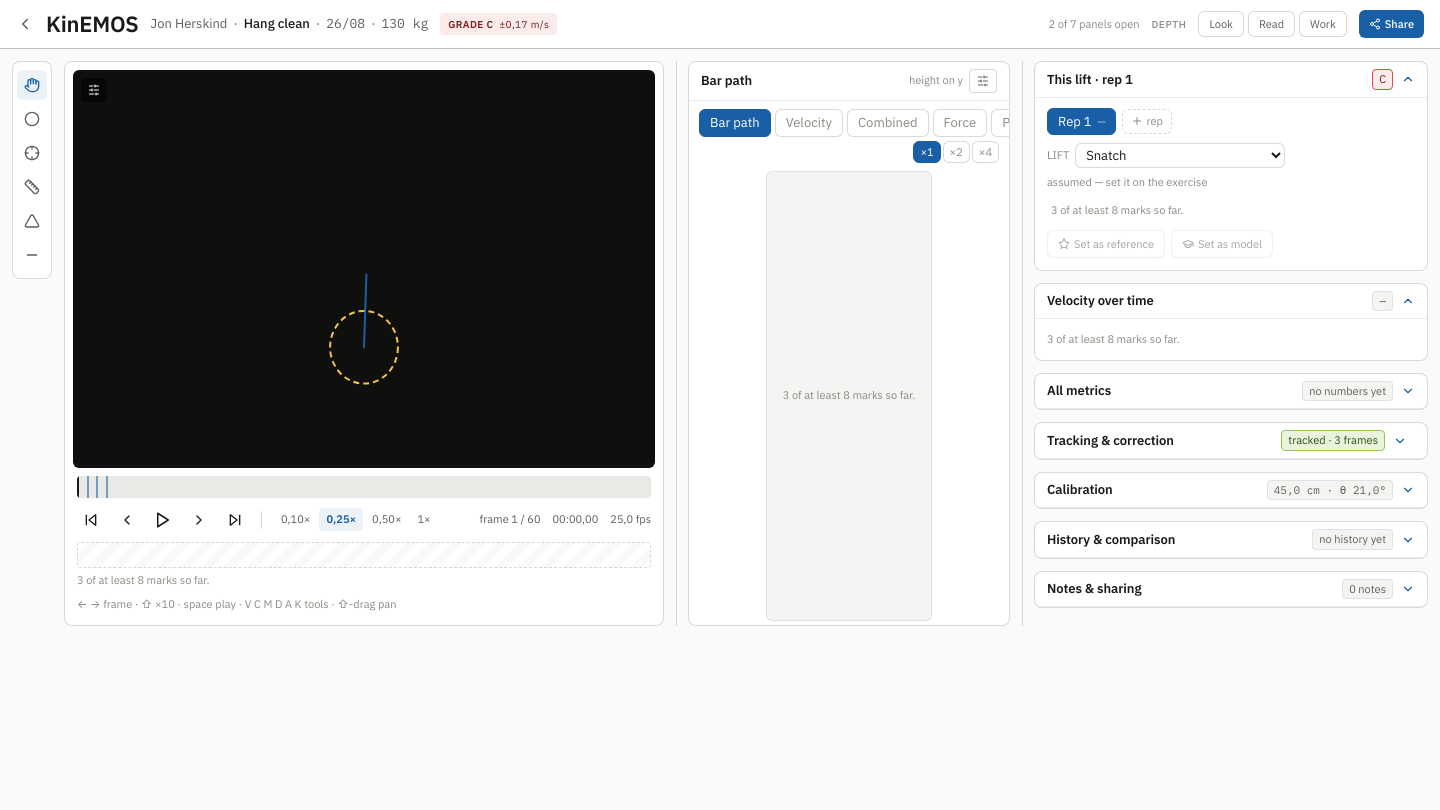
KinemosViewer · "+ rep" offers to track the rest of the clip › remembers where rep 1 ended, and tracks from there to the end as rep 2
Check: the text "Hang clean" is shown, box [244,14,310,34]
Check: the button "Rep 1 —" is shown, box [1047,108,1116,135]
Click the button titled "Add a rep": click(1147, 121) [1122,109,1172,134]
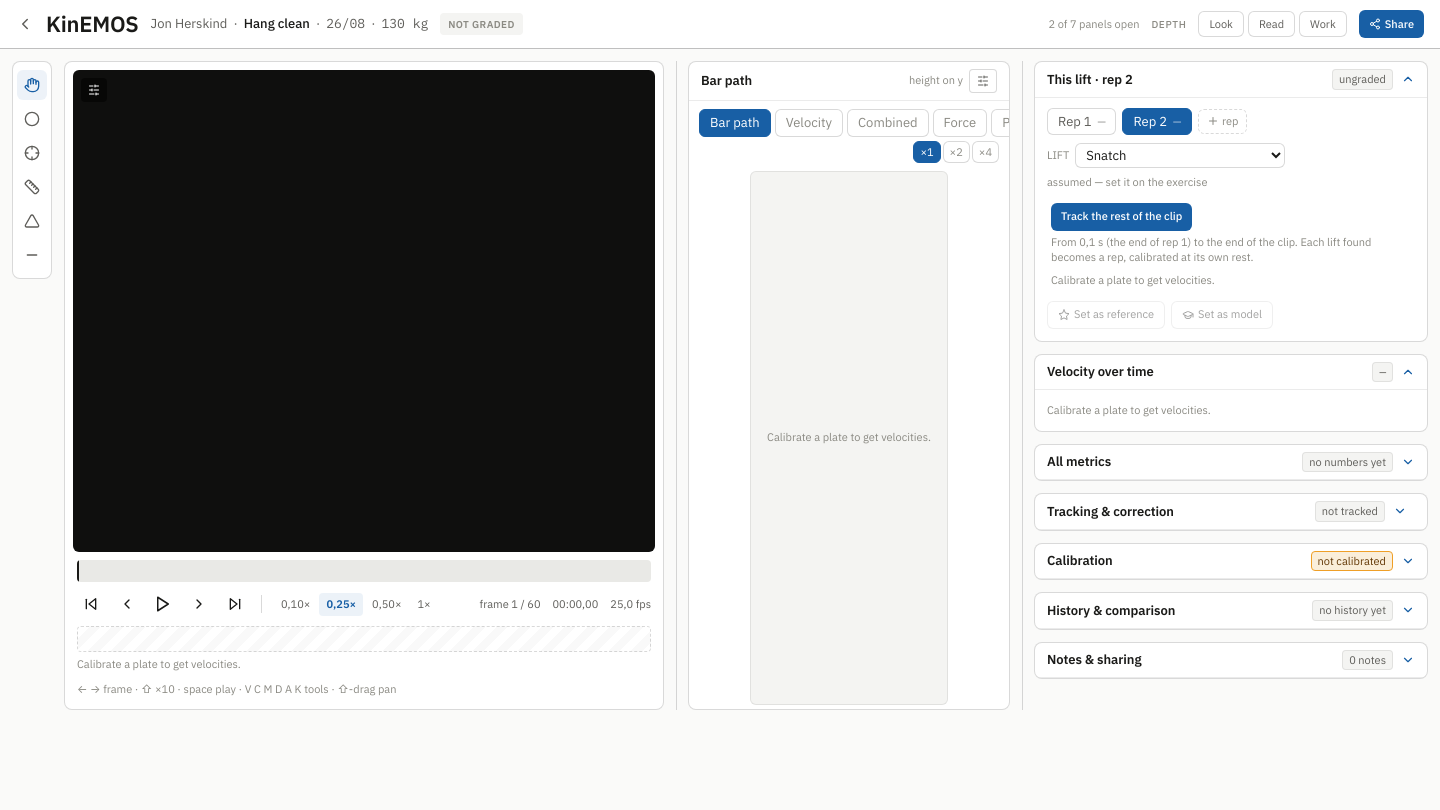
Check: the text "From 0,1 s (the end of rep 1) to the end of the clip" is shown, box [1051,234,1371,264]
Check: the button "This lift · rep 2 ungraded" is shown, box [1035,62,1427,96]
Click the button "Track the rest of the clip": click(1122, 216) [1051,202,1192,230]
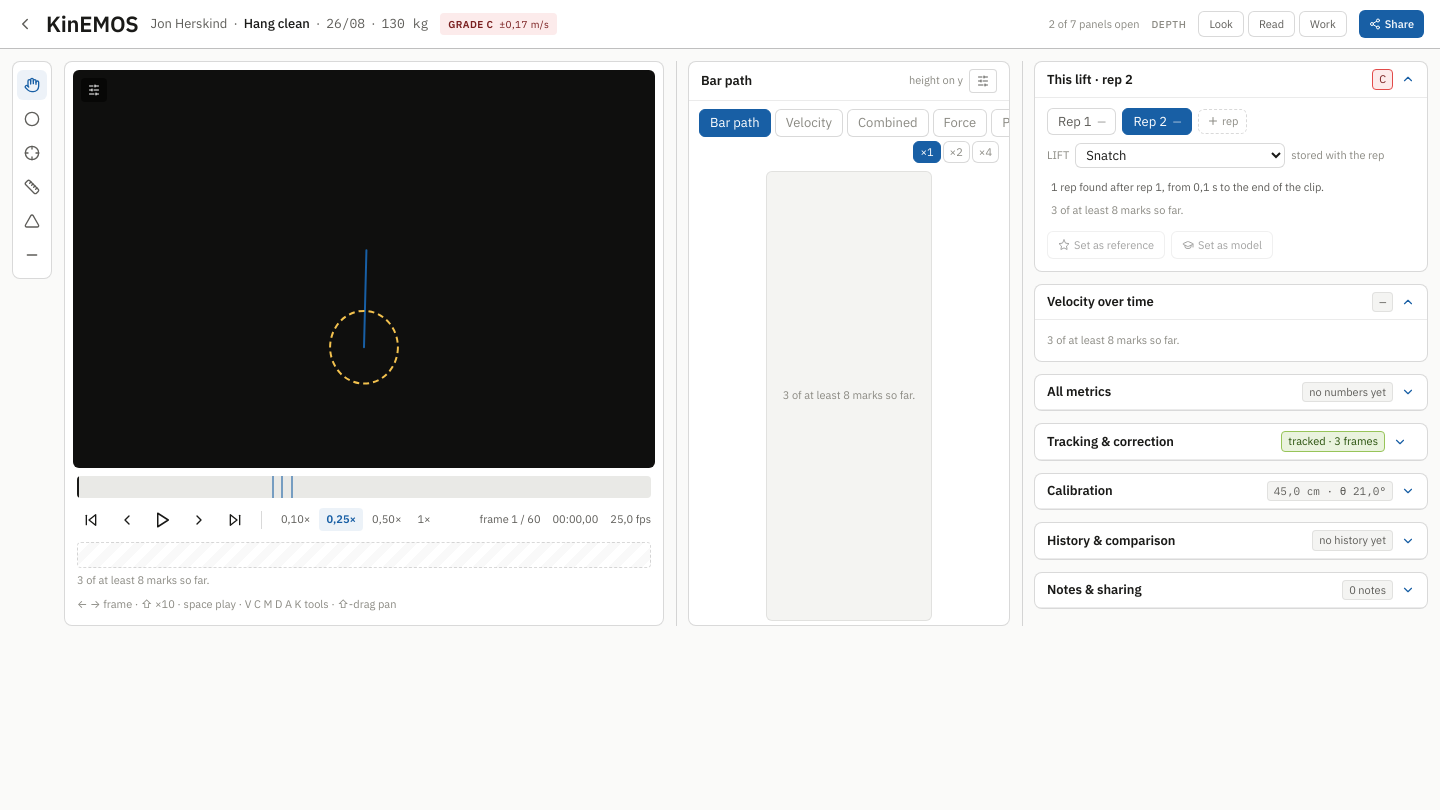
Check: the text "1 rep found after rep 1, from 0,1 s to the end of the clip." is shown, box [1051,180,1324,194]
Check: the button "Track the rest of the clip" is gone
